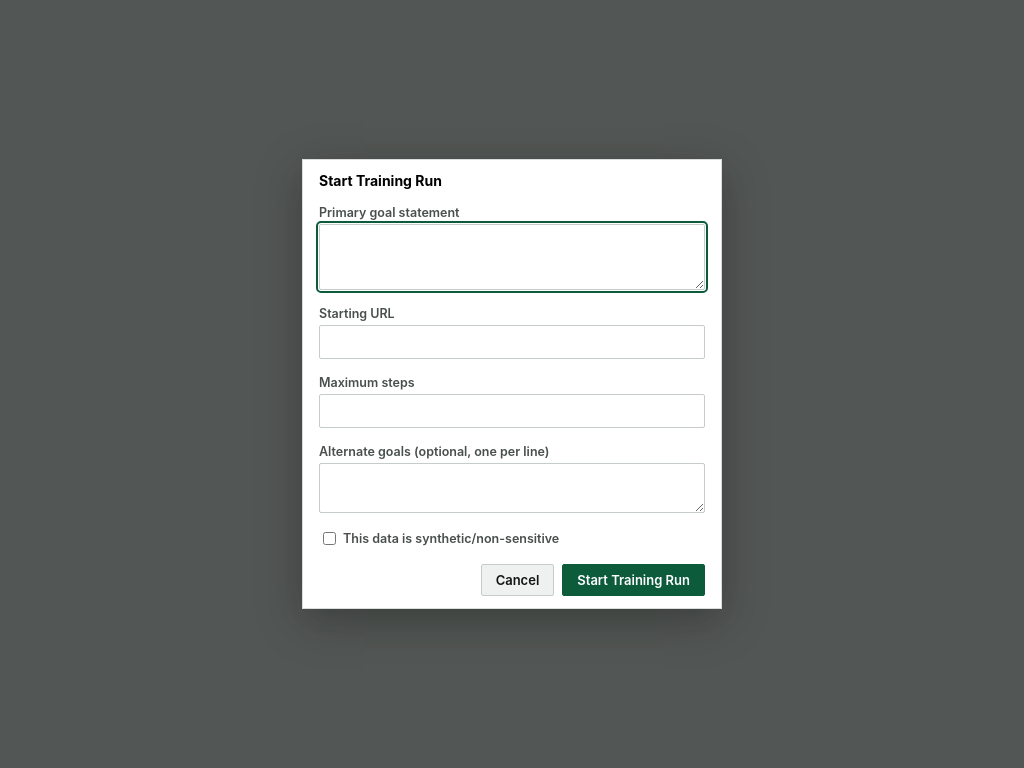
Test: StartTrainingModal › shows a required message for each field on empty submit
The image size is (1024, 768).
Click the button "Start Training Run" at (634, 580), box x1=562 y1=564 x2=705 y2=596
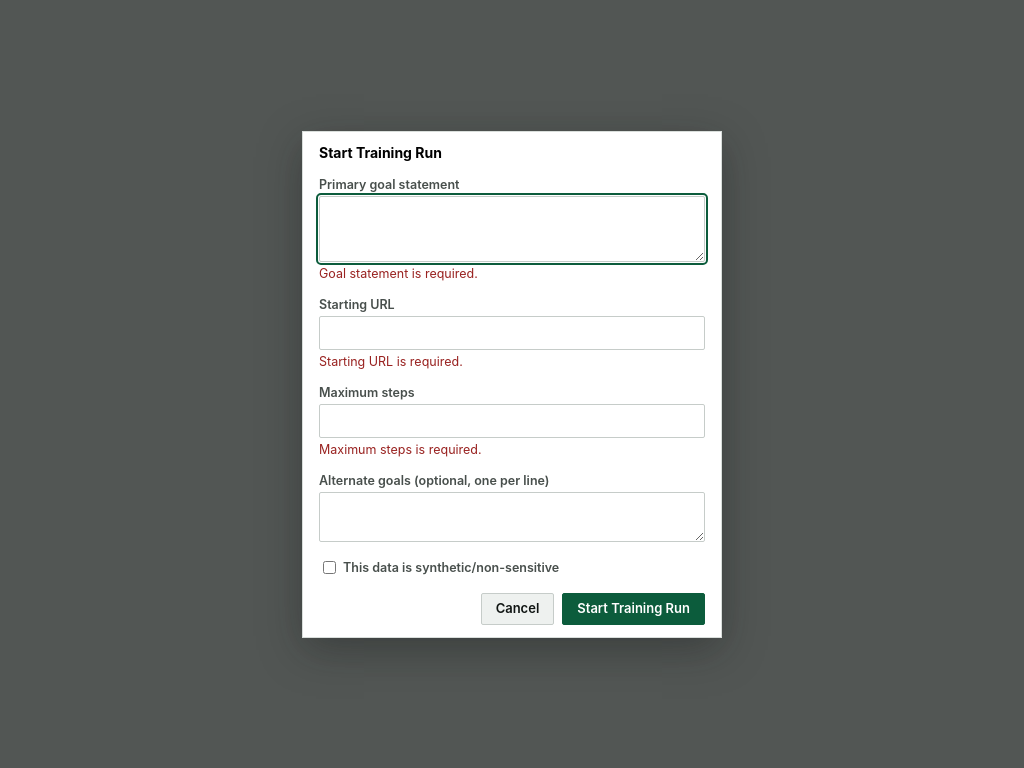
expect the text "Goal statement is required." is shown 3 times: met, box x1=319 y1=266 x2=478 y2=280; x1=319 y1=354 x2=463 y2=368; x1=319 y1=442 x2=482 y2=456
